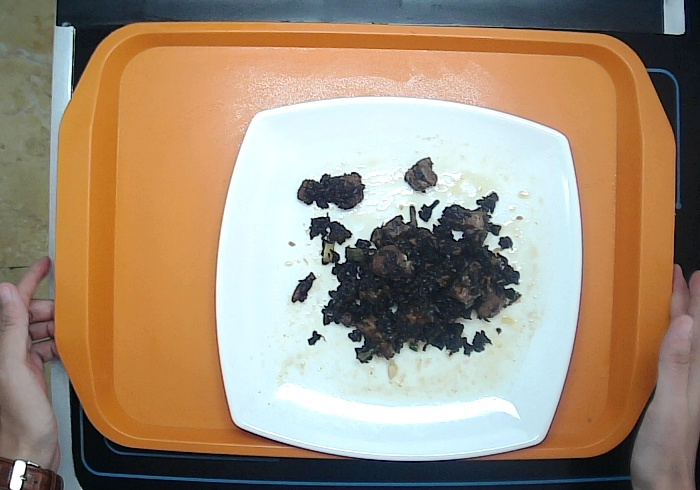ZNLD-Bai_Fang_Pan: (192, 80, 602, 482)
